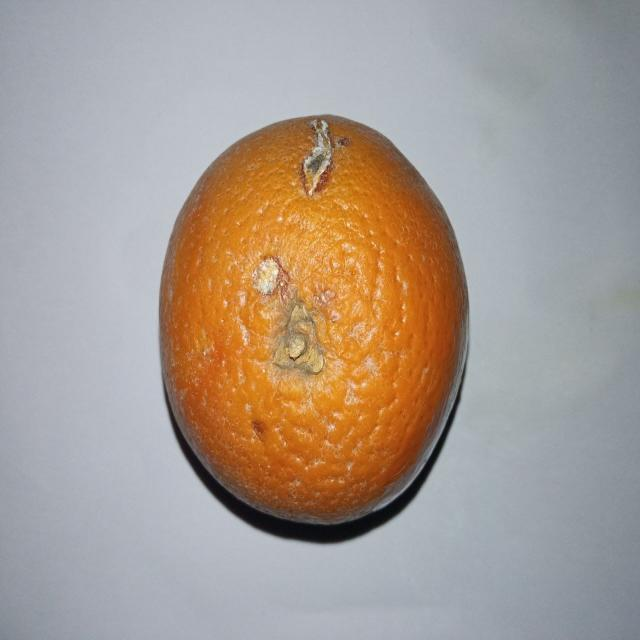rotten_orange: (157, 115, 466, 525)
